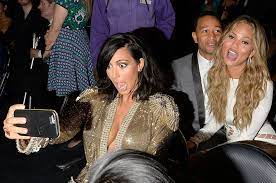face: (105, 53, 137, 96), (222, 32, 252, 64), (197, 23, 222, 51)
